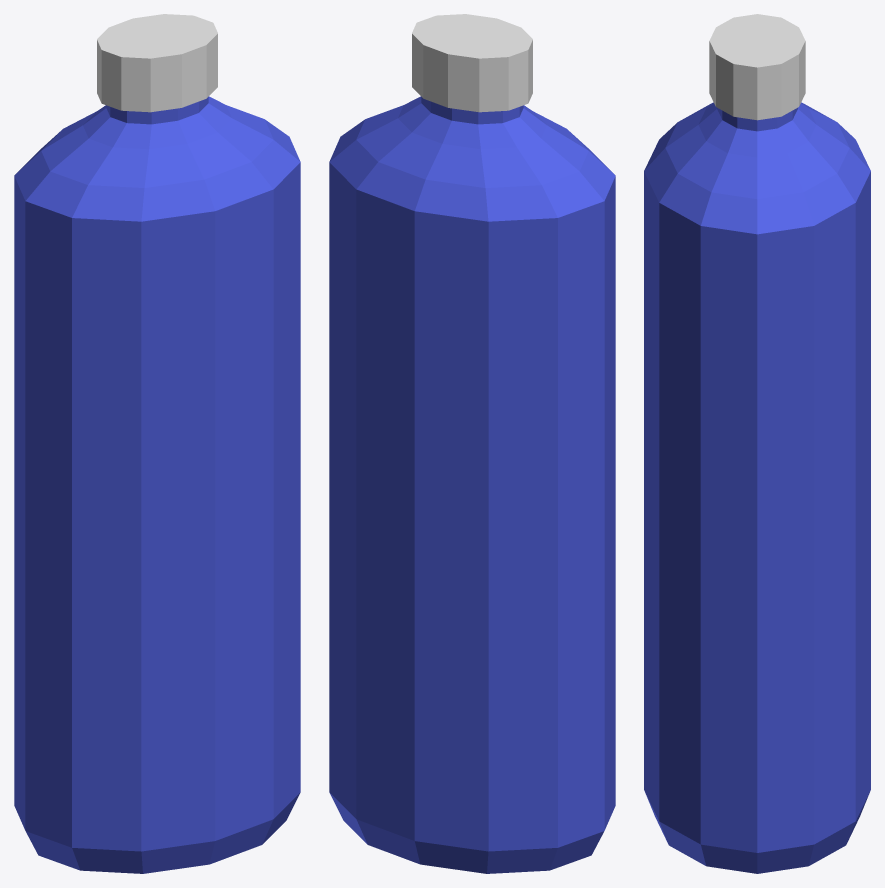
Rendered from CREAM_01.fbx.
3 renders of one model, left to right at view 1: azimuth 30°, elevation 25°; view 2: azimuth 150°, elevation 25°; view 3: azimuth 270°, elevation 25°, orthographic.
Parts seen in each view (by area): view 1: CREAM_01; view 2: CREAM_01; view 3: CREAM_01.
Part boxes in pixels (x1,y1,x2,y2): CREAM_01: (14,14,300,873); CREAM_01: (329,14,615,873); CREAM_01: (644,14,870,873).
Bounding box in the file's own units: 4.34 × 12.41 × 3.29.
